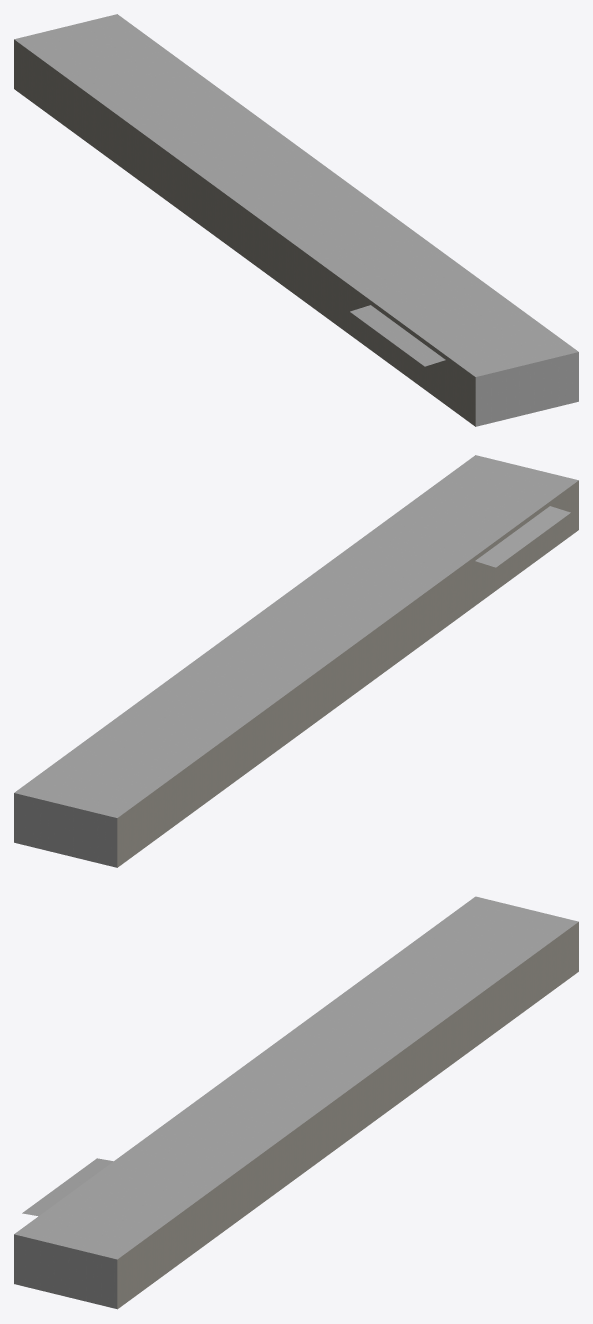
The model's file is gen_open_hangar03-85x11x5-cbj_LOD04.gltf.
The picture shows the model from 3 angles, top to bottom: view 1: azimuth 30°, elevation 25°; view 2: azimuth 150°, elevation 25°; view 3: azimuth 330°, elevation 25°; orthographic projection.
Parts seen in each view (by area): view 1: Cube.017; view 2: Cube.017; view 3: Cube.017.
Part boxes in pixels (left/top/right/bottom): Cube.017: left=14, top=14, right=578, bottom=426; Cube.017: left=14, top=455, right=578, bottom=867; Cube.017: left=14, top=896, right=578, bottom=1309.
Size of what is drawn, in the model's own units: 13.27 by 5.08 by 85.01.
